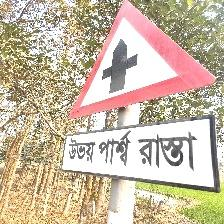Crossroad: (58, 0, 224, 196)
